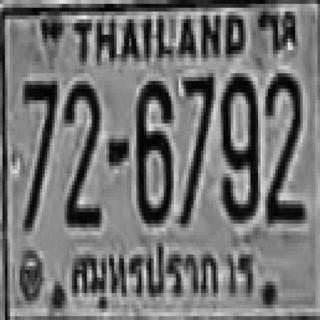N02: (263, 71, 303, 222), (63, 79, 100, 226), (263, 69, 300, 208)
N06: (134, 77, 171, 220)
N07: (177, 73, 212, 224), (21, 77, 56, 227), (22, 77, 57, 212), (22, 77, 57, 177)
N09: (220, 69, 257, 220)
P57: (67, 239, 258, 303)
